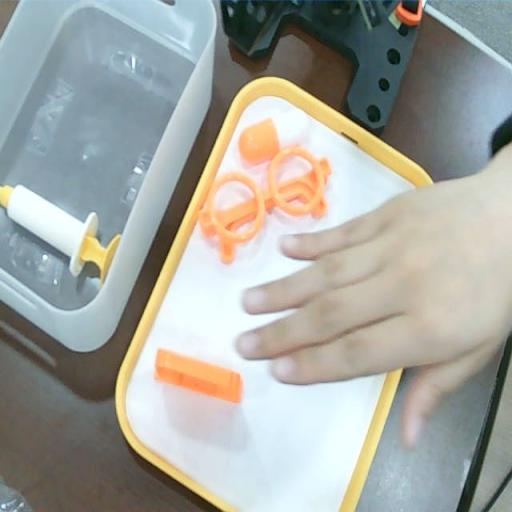hospital: (227, 132, 512, 440)
